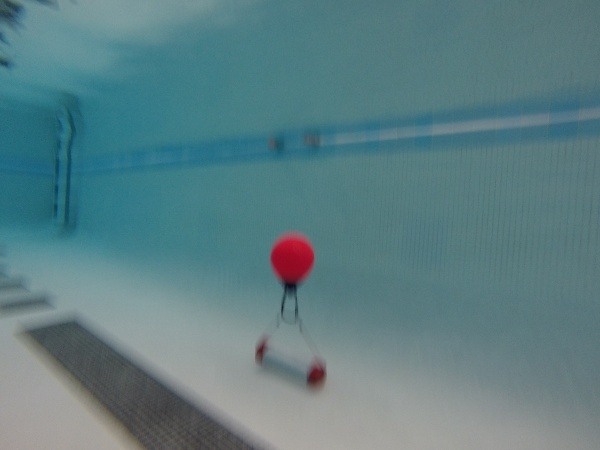buoy_red: (267, 235, 315, 297)
